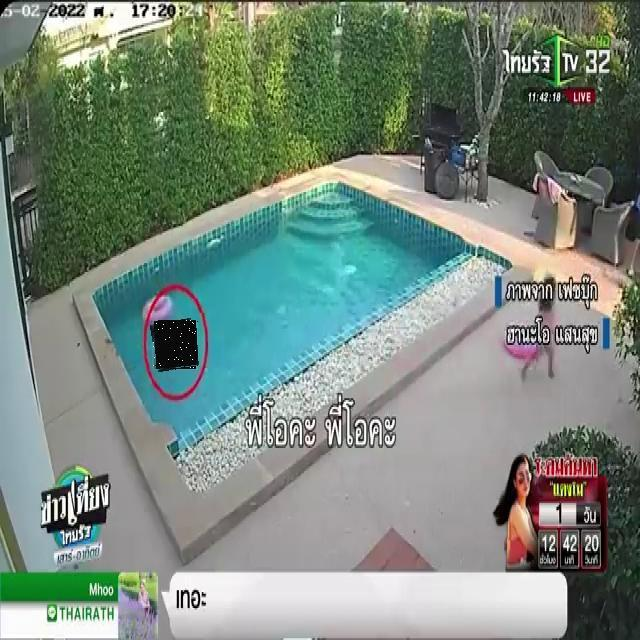Out of Water: (152, 320, 198, 370)
